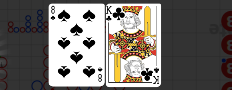8C: (50, 5, 57, 22)
KC: (151, 64, 161, 86)
